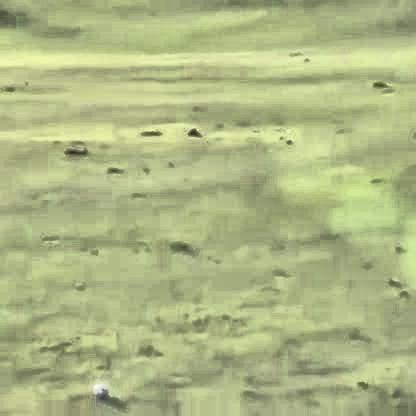golfball: (91, 377, 107, 395)
